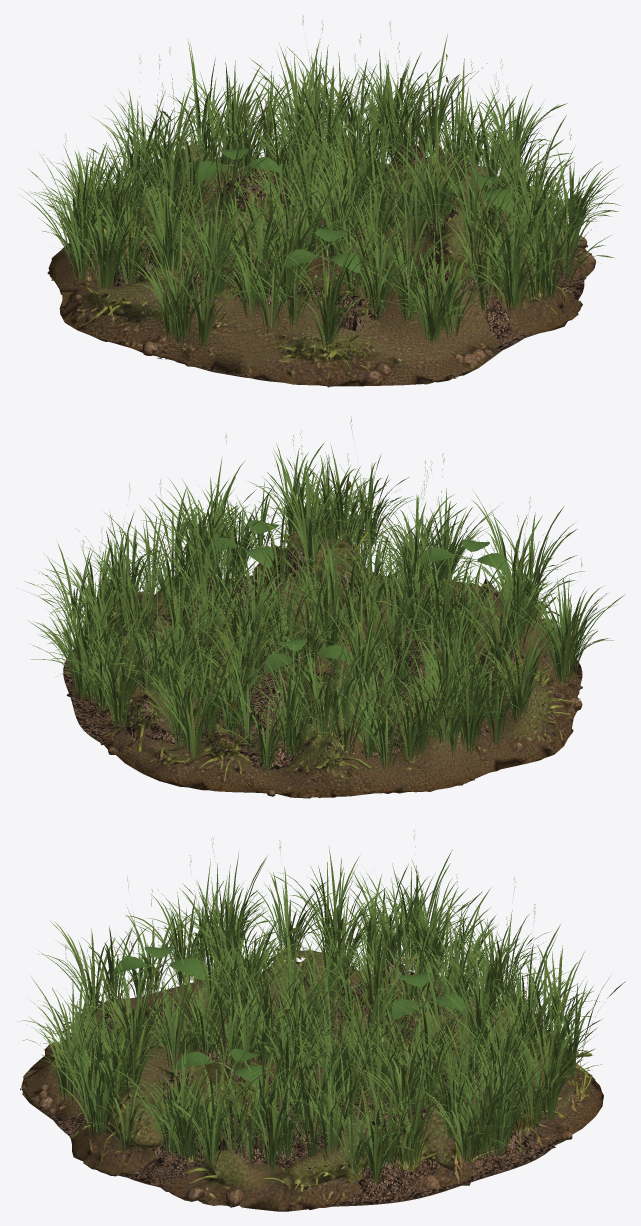
3 views of the same model, one above another, from view 1: azimuth 30°, elevation 25°; view 2: azimuth 150°, elevation 25°; view 3: azimuth 270°, elevation 25° (orthographic). The views are drawn at different scales.
Visible parts, largest first — view 1: Abundant narrow-bladed weeds, tripo_node_4cbcba06-f31e-4202-b951-6dcbfec51de6, Continuous closed textured-earth support, Natural fine stems, Exactly three sparse trifoliate bean plants; view 2: Abundant narrow-bladed weeds, tripo_node_4cbcba06-f31e-4202-b951-6dcbfec51de6, Continuous closed textured-earth support, Exactly three sparse trifoliate bean plants, Natural fine stems; view 3: Abundant narrow-bladed weeds, tripo_node_4cbcba06-f31e-4202-b951-6dcbfec51de6, Continuous closed textured-earth support, Exactly three sparse trifoliate bean plants, Natural fine stems.
Part boxes in pixels (x1=…): Abundant narrow-bladed weeds: x1=20, y1=34, x2=622, y2=353; tripo_node_4cbcba06-f31e-4202-b951-6dcbfec51de6: x1=47, y1=54, x2=595, y2=387; Continuous closed textured-earth support: x1=106, y1=144, x2=584, y2=376; Natural fine stems: x1=65, y1=15, x2=572, y2=339; Exactly three sparse trifoliate bean plants: x1=196, y1=148, x2=510, y2=273; Abundant narrow-bladed weeds: x1=24, y1=443, x2=625, y2=772; tripo_node_4cbcba06-f31e-4202-b951-6dcbfec51de6: x1=66, y1=457, x2=582, y2=798; Continuous closed textured-earth support: x1=63, y1=544, x2=582, y2=791; Exactly three sparse trifoliate bean plants: x1=204, y1=520, x2=507, y2=672; Natural fine stems: x1=82, y1=417, x2=582, y2=753; Abundant narrow-bladed weeds: x1=17, y1=845, x2=625, y2=1184; tripo_node_4cbcba06-f31e-4202-b951-6dcbfec51de6: x1=20, y1=920, x2=603, y2=1211; Continuous closed textured-earth support: x1=49, y1=961, x2=559, y2=1206; Exactly three sparse trifoliate bean plants: x1=112, y1=946, x2=467, y2=1087; Natural fine stems: x1=65, y1=830, x2=544, y2=1172.
Bounding box in the file's own units: 1.07 × 0.3858 × 1.07.
Materials: 5 (4 with a texture image).
